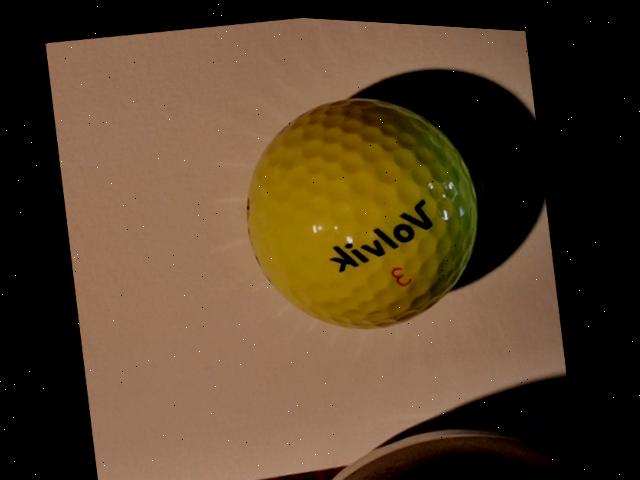Ball: (226, 70, 500, 348)
Volvik: (323, 189, 440, 274)
